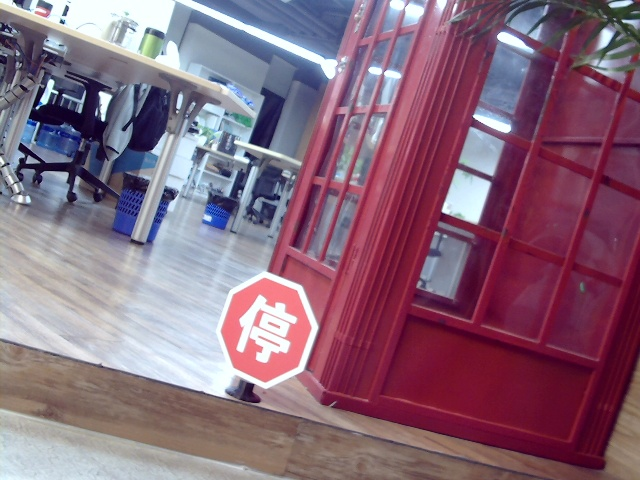stop: (237, 293, 293, 365)
